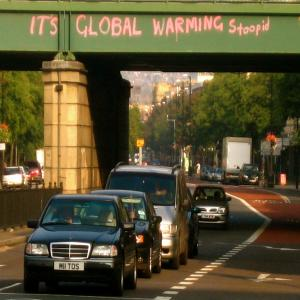Vehicle-registration-plate: (55, 262, 86, 272), (201, 215, 216, 219)
